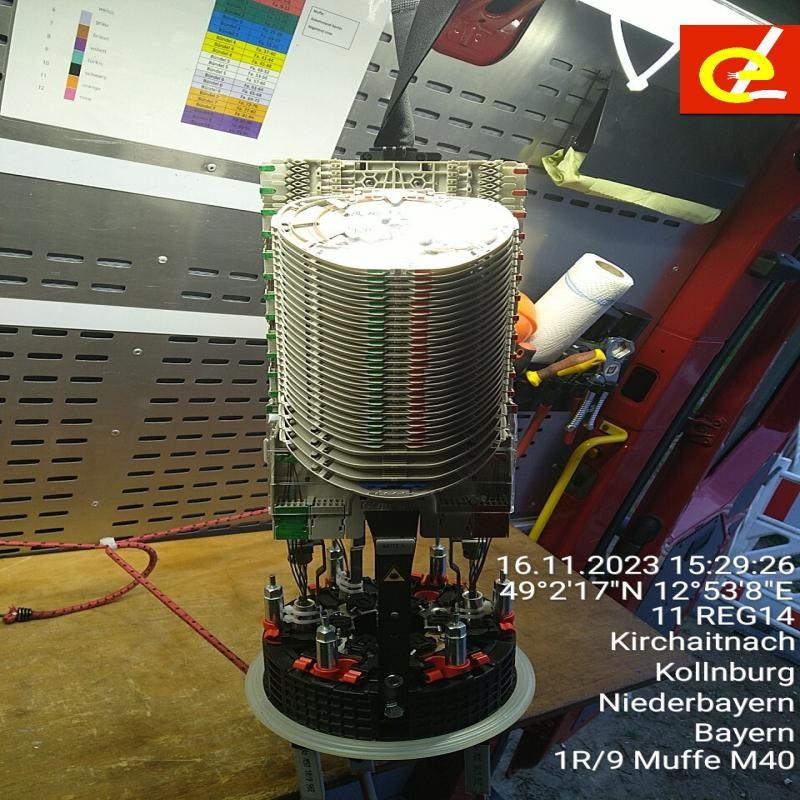NT-Muffen: (247, 154, 539, 764)
